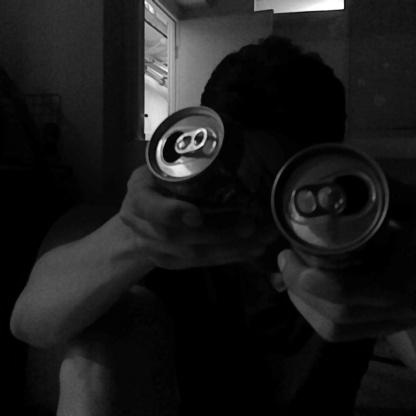alumunium_can: (271, 142, 391, 255), (144, 101, 230, 183)
